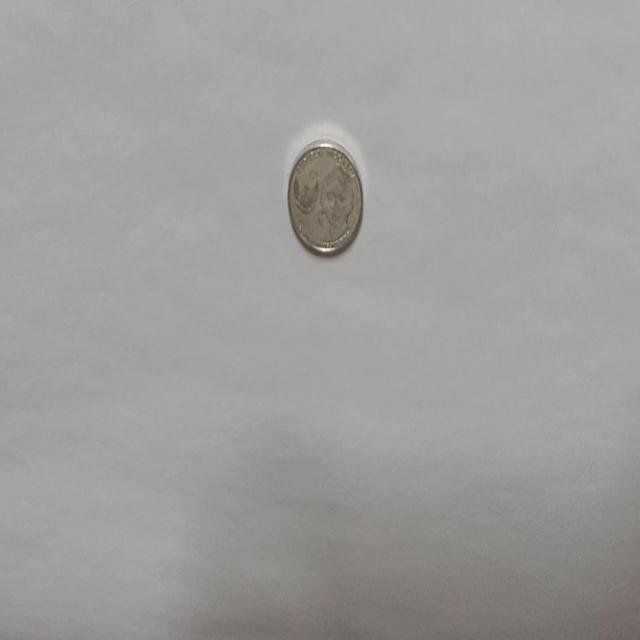dua ratus rupiah: (286, 137, 364, 255)
